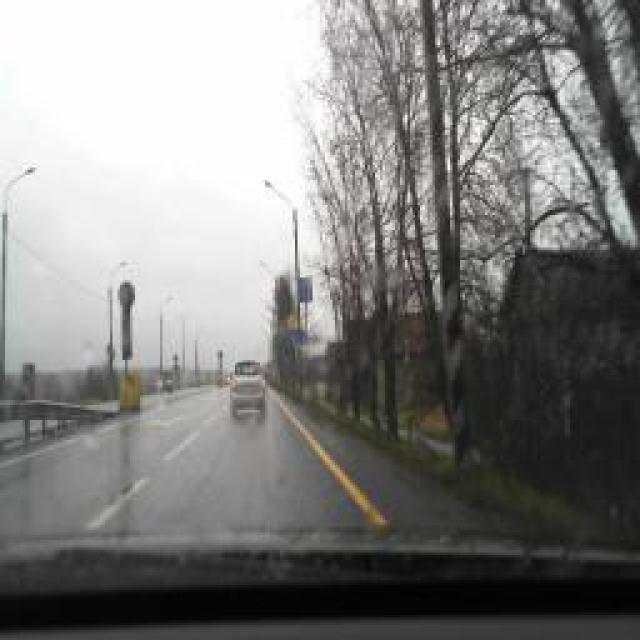sign: (298, 275, 312, 303), (289, 332, 306, 346)
